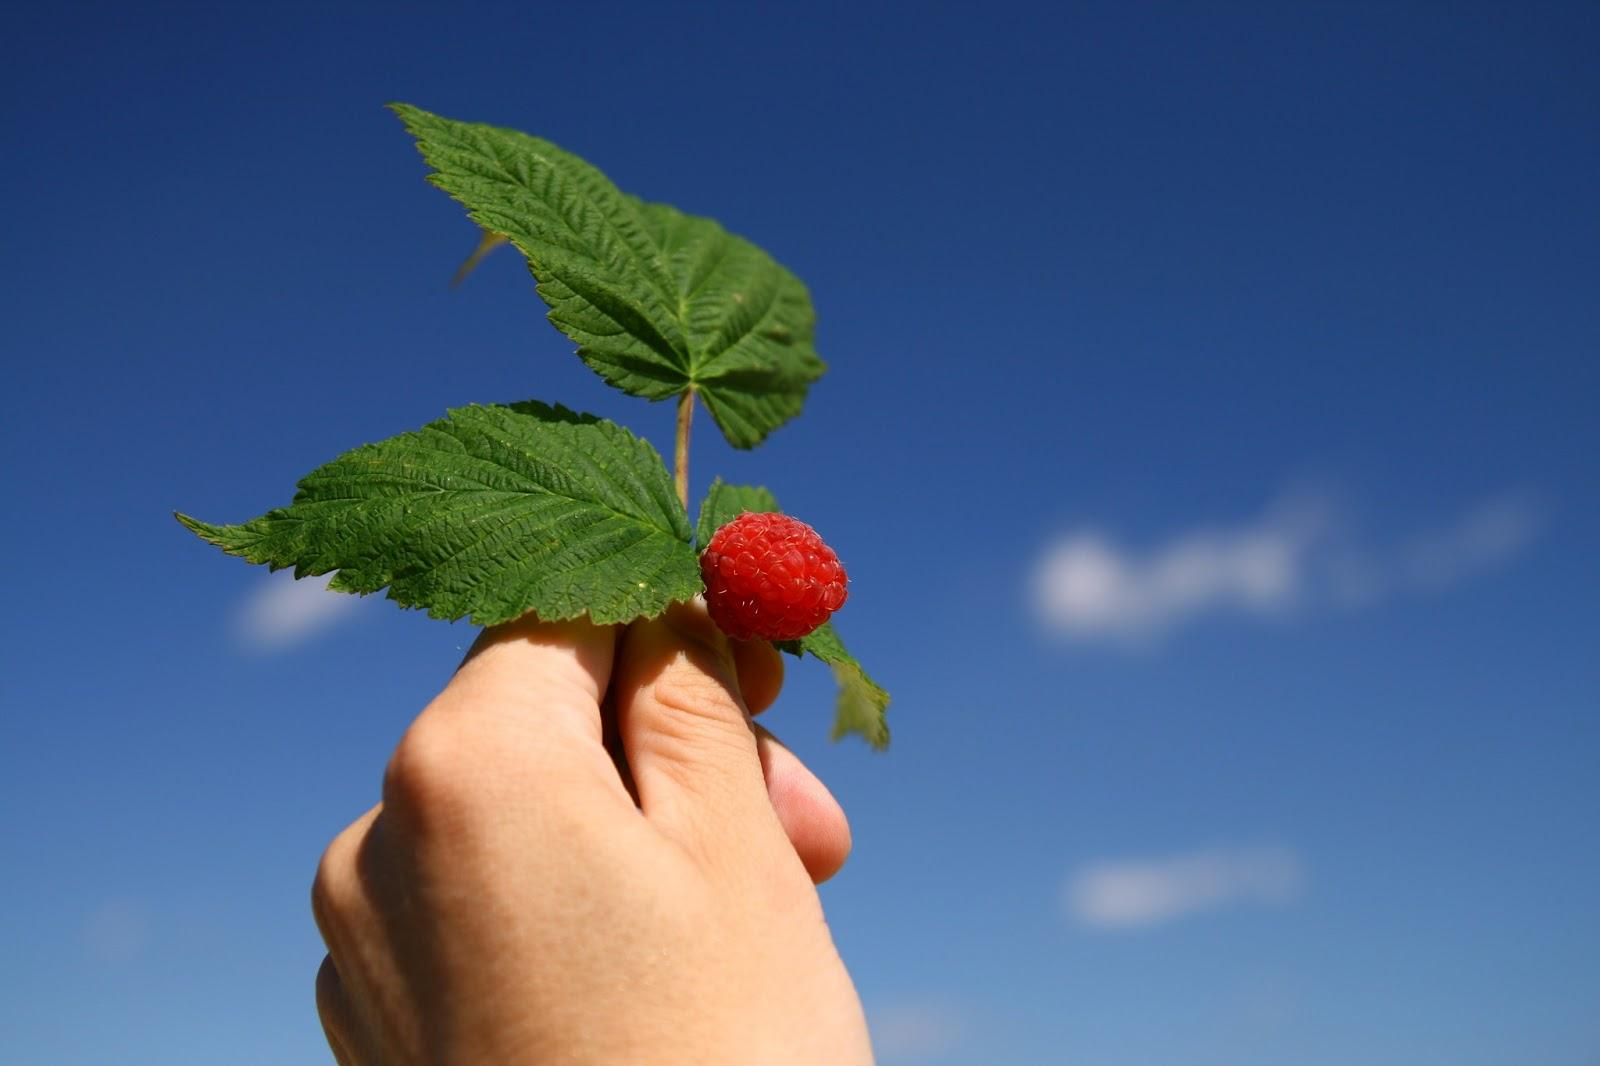Raspberry leaf: (385, 102, 837, 450), (161, 395, 713, 625)
